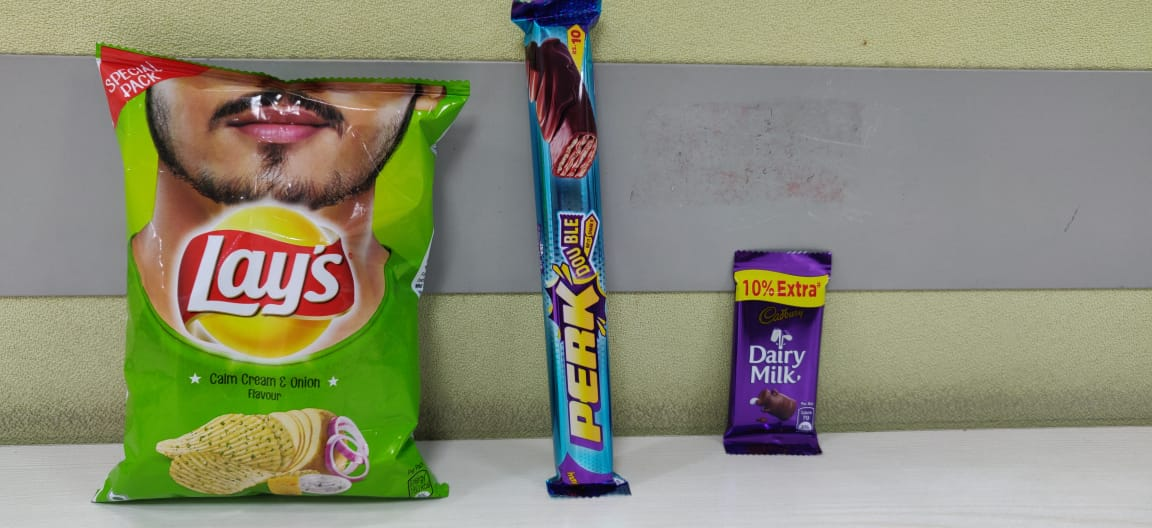dairy milk: (720, 246, 833, 463)
lays chips: (82, 35, 474, 513)
perk: (507, 1, 641, 498)
